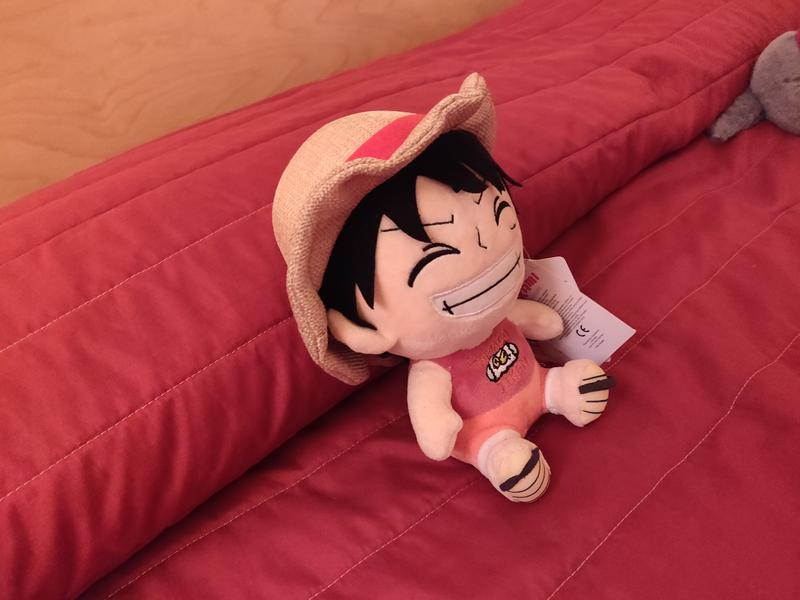rufy: (255, 60, 678, 519)
